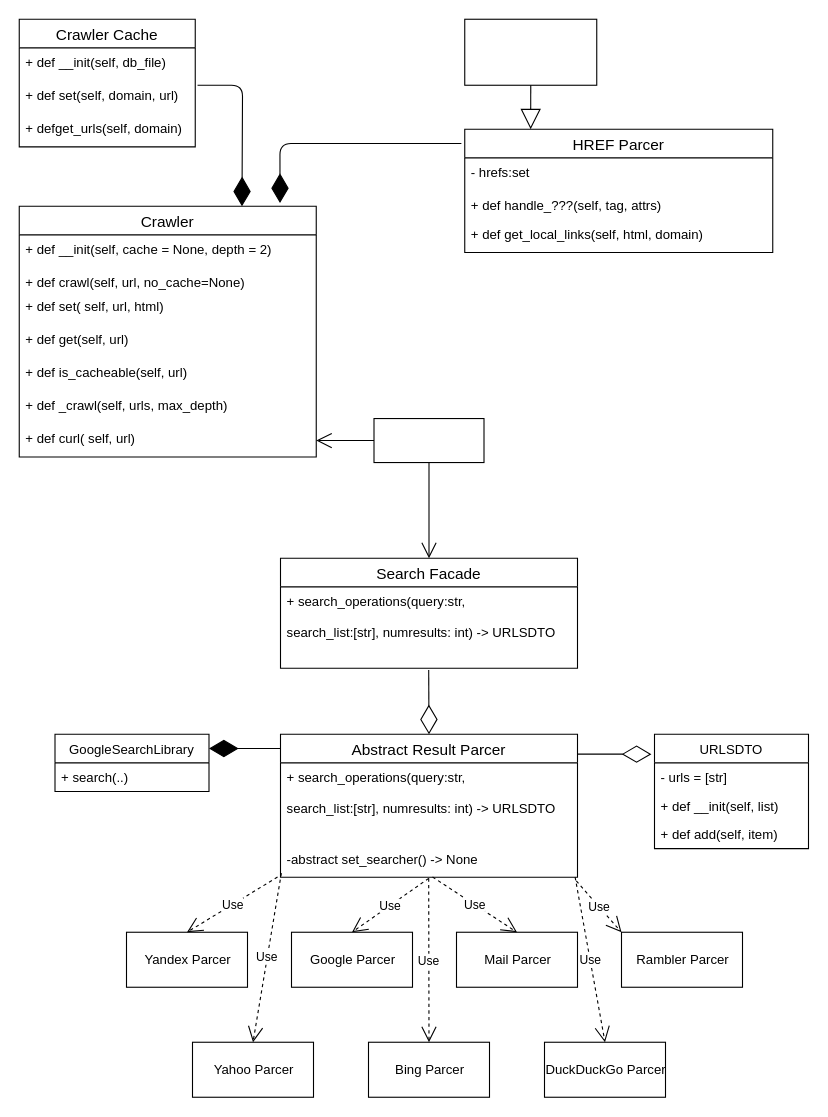
The diagram is 828 pixels wide and 1117 high, and some of its shapes have lost their labels. Here are the shapes that lost their labels. From the top down, the centre of each, then its label:
(530,51): HTML Parces
(428,440): Client_code
